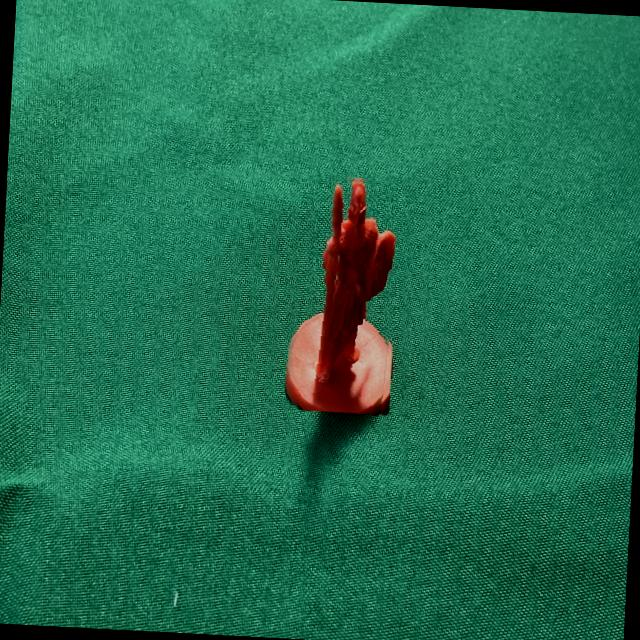amon_follower: (285, 178, 396, 416)
